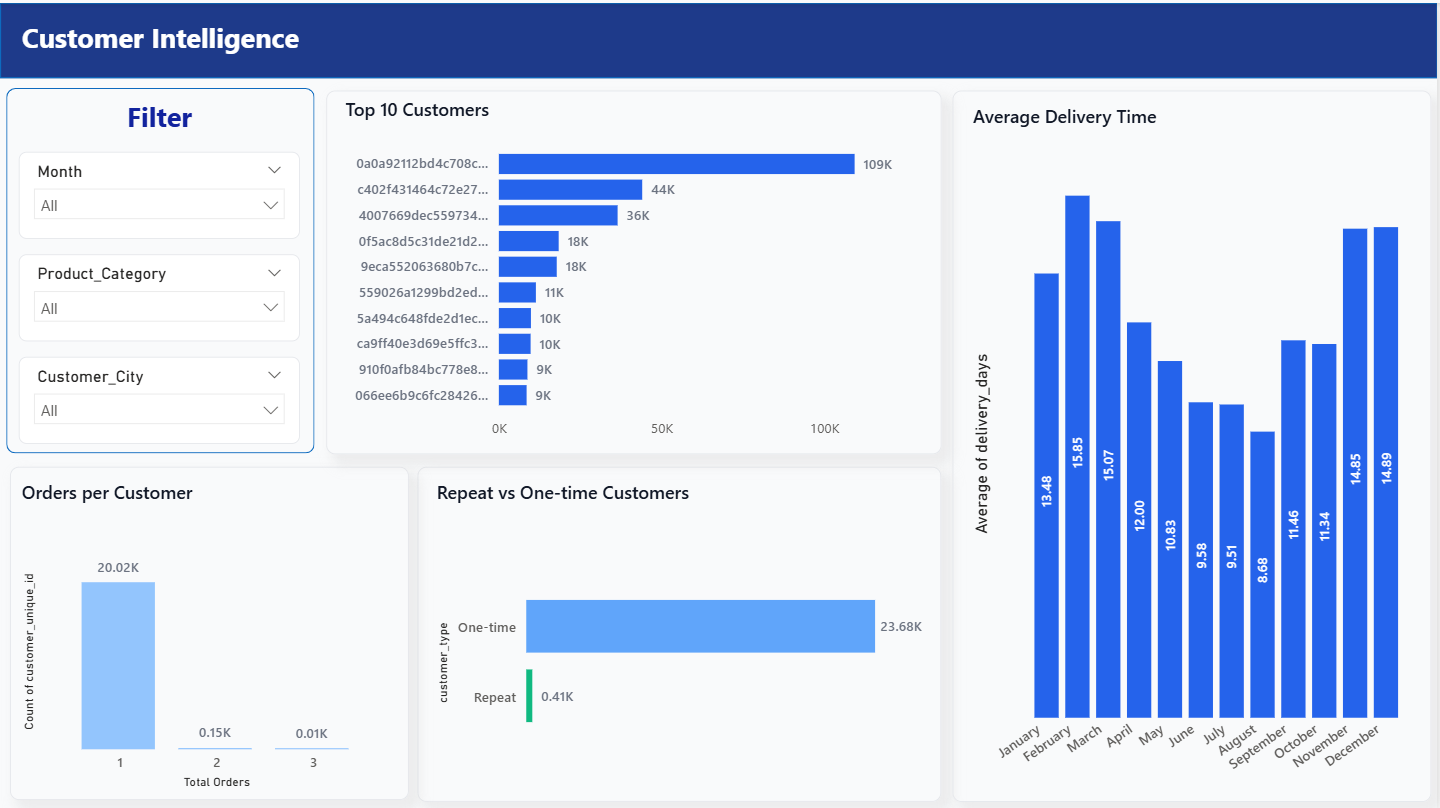

This screenshot's page, from the dashboard's own definition file:
{"tool":"powerbi","page":{"name":"Page 3","canvas":[1280,720],"ordinal":2},"visuals":[{"type":"shape","box":[5.6,76.1,274.6,325.4],"z":0},{"type":"shape","box":[371.8,412.7,466.2,298.6],"z":1000},{"type":"shape","box":[0,0,1280.3,67],"z":2000},{"type":"textbox","box":[14.1,9.9,1260.6,47.9],"z":3000},{"type":"shape","box":[8.5,412.7,354.9,297.2],"z":4000},{"type":"barChart","fields":{"Category":["final_dataset.customer_type"],"Y":["CountNonNull(final_dataset.customer_unique_id)"]},"box":[384.5,463.4,442.3,240.8],"z":5000},{"type":"textbox","box":[384.5,419.7,276.1,47.9],"z":6000},{"type":"shape","box":[290.1,77.5,547.9,323.9],"z":7000},{"type":"shape","box":[847.9,77.5,426.8,633.8],"z":8000},{"type":"clusteredBarChart","fields":{"Category":["final_dataset.customer_unique_id"],"Y":["final_dataset.Total Revenue"]},"box":[300,112.7,526.8,284.5],"z":9000},{"type":"clusteredColumnChart","fields":{"Category":["final_dataset.order_month.Variation.Date Hierarchy.Month"],"Y":["Avg(final_dataset.delivery_days)"]},"box":[862,135.2,400,569],"z":10000},{"type":"clusteredColumnChart","fields":{"Category":["Customer Orders Table.Total Orders"],"Y":["CountNonNull(Customer Orders Table.customer_unique_id)"]},"box":[15.5,476.1,338,228.2],"z":11000},{"type":"textbox","box":[862,84.5,276.1,47.9],"z":12000},{"type":"textbox","box":[302.8,77.5,276.1,47.9],"z":13000},{"type":"textbox","box":[14.1,419.7,276.1,47.9],"z":14000},{"type":"slicer","fields":{"Values":["final_dataset.order_approved_at.Variation.Date Hierarchy.Month"]},"box":[16.9,132,250.7,77.5],"z":15000},{"type":"slicer","fields":{"Values":["final_dataset.product_category_name_english"]},"box":[16.9,223.5,250.7,77.5],"z":16000},{"type":"slicer","fields":{"Values":["final_dataset.customer_city"]},"box":[16.9,315.1,250.7,77.5],"z":17000},{"type":"textbox","box":[16.9,80.3,250.7,49.3],"z":17001}]}

Visuals, with their boxes in screenshot pixels (x1, y1, x2, y2), scaled from the page's 1280x720 canvas onto the 1440x808 screenshot:
shape: (6,85,315,451)
shape: (418,463,943,798)
shape: (0,0,1439,75)
textbox: (16,11,1434,65)
shape: (10,463,409,797)
barChart - final_dataset.customer_type x CountNonNull(final_dataset.customer_unique_id): (433,520,930,790)
textbox: (433,471,743,525)
shape: (326,87,943,450)
shape: (954,87,1434,798)
clusteredBarChart - final_dataset.customer_unique_id x final_dataset.Total Revenue: (338,126,930,446)
clusteredColumnChart - final_dataset.order_month.Variation.Date Hierarchy.Month x Avg(final_dataset.delivery_days): (970,152,1420,790)
clusteredColumnChart - Customer Orders Table.Total Orders x CountNonNull(Customer Orders Table.customer_unique_id): (17,534,398,790)
textbox: (970,95,1280,149)
textbox: (341,87,651,141)
textbox: (16,471,326,525)
slicer - final_dataset.order_approved_at.Variation.Date Hierarchy.Month: (19,148,301,235)
slicer - final_dataset.product_category_name_english: (19,251,301,338)
slicer - final_dataset.customer_city: (19,354,301,441)
textbox: (19,90,301,145)
